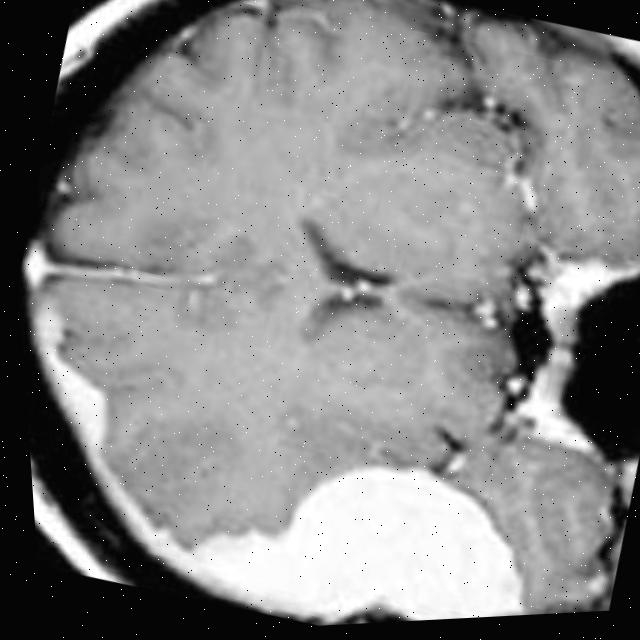Meningioma: (102, 388, 557, 636)
